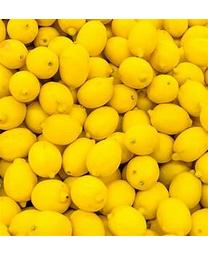lemon: (3, 158, 38, 206), (157, 195, 193, 234), (71, 176, 109, 212), (0, 126, 38, 162), (149, 104, 193, 135), (39, 114, 83, 144), (31, 180, 71, 213), (60, 44, 91, 86), (39, 79, 74, 116), (62, 137, 95, 176), (88, 140, 122, 177), (107, 204, 146, 236), (173, 126, 207, 162), (76, 77, 115, 108), (117, 56, 154, 88), (30, 140, 62, 176), (30, 210, 72, 237), (127, 156, 160, 190), (124, 123, 159, 155), (7, 70, 41, 102), (85, 107, 120, 138), (77, 21, 107, 57), (171, 172, 201, 208), (27, 47, 60, 79), (0, 96, 28, 132), (0, 38, 29, 70), (130, 22, 157, 55), (147, 74, 179, 101), (7, 18, 38, 44), (153, 42, 179, 70), (182, 37, 207, 61)
